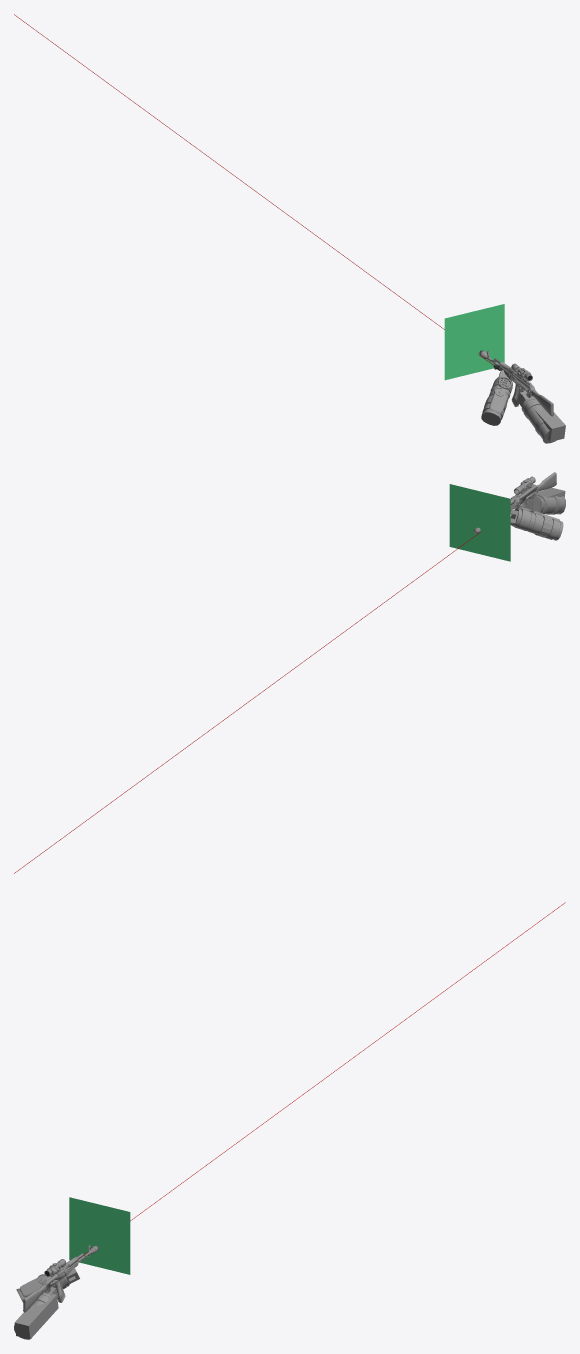
3 renders of one model, top to bottom at view 1: azimuth 30°, elevation 25°; view 2: azimuth 150°, elevation 25°; view 3: azimuth 330°, elevation 25°, orthographic.
Parts seen in each view (by area): view 1: fire2, arm_left, body, arm_right, handa; view 2: fire2, arm_left, body, laser1, arm_right; view 3: fire2, handa, body.
Part boxes in pixels (x1,y1,x2,y2): fire2: (444,304,504,380); arm_left: (481,376,512,425); body: (482,350,553,416); arm_right: (521,397,555,443); handa: (528,397,565,441); fire2: (449,484,510,561); arm_left: (510,508,563,540); body: (510,472,556,509); laser1: (14,532,480,873); arm_right: (535,494,565,514); fire2: (69,1197,130,1274); handa: (14,1292,58,1339); body: (23,1245,91,1312).
Bounding box in the file's own units: 1463 × 1621 × 20498.
